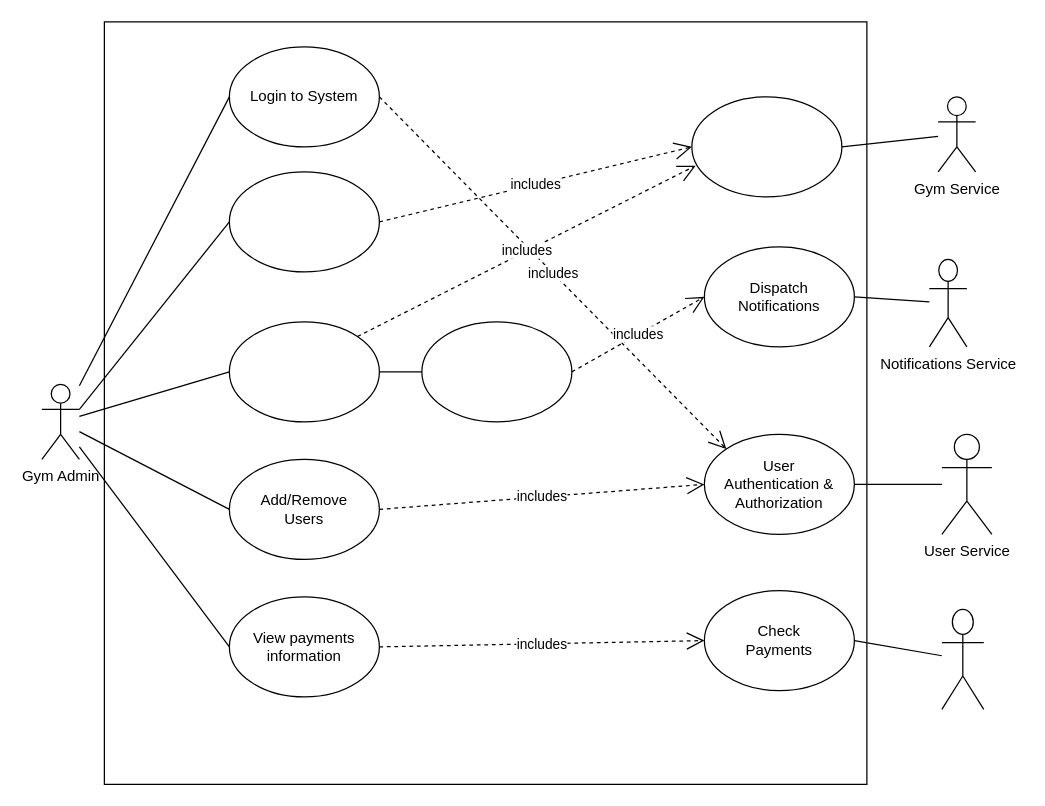
Image size: 1045x806. Some labels were removed from this diagram. Each missing label, with the centre of its shape:
"Approve/Reject Gyms" goes at point 303,371.
"Check Gym Centers" goes at point 766,146.
"Notify Gym Owner" goes at point 496,371.
"Payments Service" goes at point 962,658.
"View Registered Gyms" goes at point 303,221.
